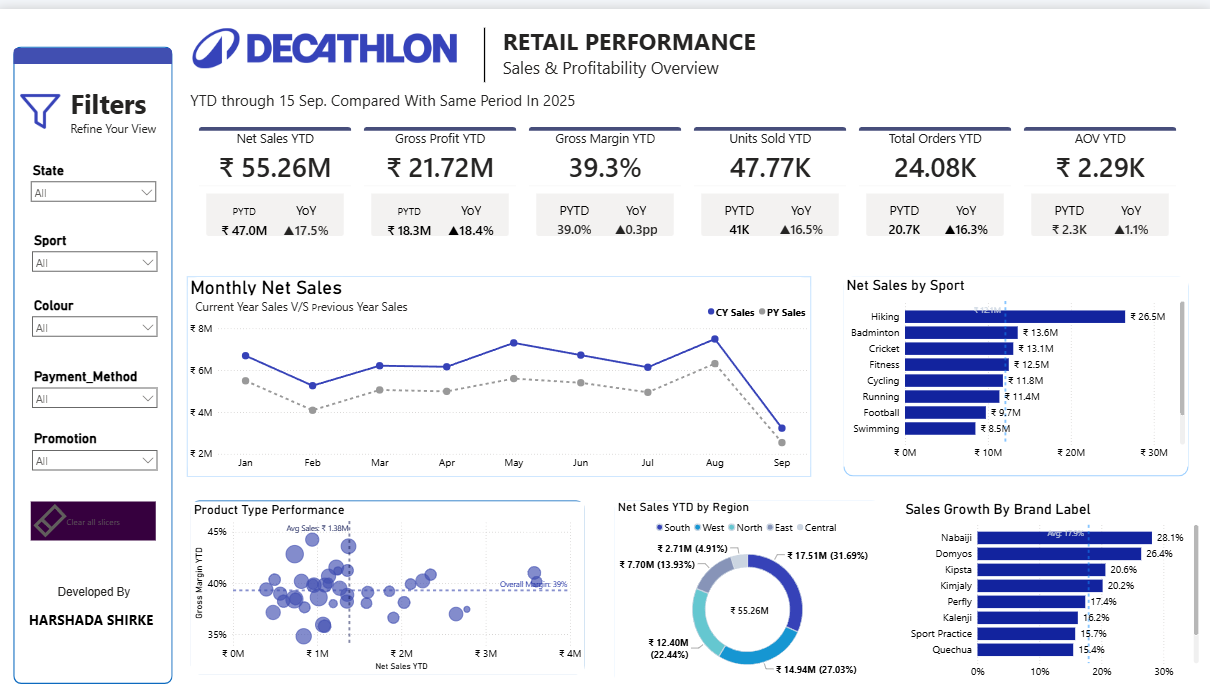

Layout of this report page (visuals, bound fields, positions):
{"tool":"powerbi","page":{"name":"Page 1","canvas":[1945,1095],"ordinal":0},"visuals":[{"type":"image","box":[311.5,9.2,423.8,105.4],"z":0},{"type":"textbox","box":[804,20.6,428.4,103.1],"z":1000},{"type":"shape","box":[755.9,29.8,48.1,87],"z":2000},{"type":"textbox","box":[304.7,123.7,636.8,48.1],"z":3000},{"type":"cardVisual","fields":{"Data":["sales.Net Sales YTD","sales.Net Gross Profit YTD","sales.Gross Margin YTD","sales.Net Units Sold YTD","sales.Net Orders YTD","sales.Net AOV YTD"]},"box":[306,172,1600,220],"z":4000},{"type":"shape","box":[304.7,428.4,998.7,320.7],"z":5000},{"type":"lineChart","title":"Monthly Net Sales","fields":{"Category":["Date Table.Month Name"],"Y":["sales.CY Sales","sales.PY Sales"]},"box":[304,428,1000,320],"z":6000},{"type":"textbox","box":[311.5,458.1,442.1,38.9],"z":7000},{"type":"shape","box":[1353.9,428.3,552.6,320.1],"z":8000},{"type":"clusteredBarChart","title":"Net Sales by Sport","fields":{"Category":["products.Sport"],"Y":["sales.Net Sales"]},"box":[1354,428,552,304],"z":9000},{"type":"shape","box":[310.6,786,630.7,278.4],"z":10000},{"type":"scatterChart","title":"Product Type Performance","fields":{"Category":["products.Product_Type"],"X":["sales.Net Sales YTD"],"Y":["sales.Gross Margin YTD"],"Size":["sales.Net Orders YTD"]},"box":[310,788,630,276],"z":11000},{"type":"shape","box":[987.8,785.2,426,294.7],"z":12000},{"type":"donutChart","fields":{"Y":["sales.Net Sales YTD"],"Category":["store.Region"]},"box":[988,786,426,296],"z":13000},{"type":"cardVisual","fields":{"Data":["sales.Net Sales YTD"]},"box":[1142,926,122,70],"z":14000},{"type":"clusteredBarChart","title":"Sales Growth By Brand Label","fields":{"Category":["products.Brand_Label"],"Y":["sales.Sales Growth %"]},"box":[1448,786,480,296],"z":15000},{"type":"shape","box":[25.8,60.7,255,1020],"z":16000},{"type":"shape","box":[26,62,254,26],"z":17000},{"type":"textbox","box":[112,116,154,106],"z":18000},{"type":"image","box":[26,108,86,114],"z":19000},{"type":"slicer","fields":{"Values":["store.State"]},"box":[44,240,220,78],"z":20000},{"type":"slicer","fields":{"Values":["products.Sport"]},"box":[46,352,220,78],"z":21000},{"type":"slicer","fields":{"Values":["products.Colour"]},"box":[46,456,220,78],"z":22000},{"type":"slicer","fields":{"Values":["sales.Payment_Method"]},"box":[46,570,220,78],"z":23000},{"type":"slicer","fields":{"Values":["sales.Promotion"]},"box":[46,670,220,78],"z":24000},{"type":"actionButton","box":[54,788,200,62],"z":25000},{"type":"textbox","box":[46,900,218,164],"z":26000}]}

Visuals, with their boxes in screenshot pixels (x1, y1, x2, y2), scaled from the page's 1945x1095 canvas onto the 1210x690 screenshot:
image: (x1=194, y1=6, x2=457, y2=72)
textbox: (x1=500, y1=13, x2=767, y2=78)
shape: (x1=470, y1=19, x2=500, y2=74)
textbox: (x1=190, y1=78, x2=586, y2=108)
cardVisual - sales.Net Sales YTD x sales.Net Gross Profit YTD: (x1=190, y1=108, x2=1186, y2=247)
shape: (x1=190, y1=270, x2=811, y2=472)
"Monthly Net Sales" lineChart: (x1=189, y1=270, x2=811, y2=471)
textbox: (x1=194, y1=289, x2=469, y2=313)
shape: (x1=842, y1=270, x2=1186, y2=472)
"Net Sales by Sport" clusteredBarChart: (x1=842, y1=270, x2=1186, y2=461)
shape: (x1=193, y1=495, x2=586, y2=671)
"Product Type Performance" scatterChart: (x1=193, y1=497, x2=585, y2=670)
shape: (x1=615, y1=495, x2=880, y2=680)
donutChart - sales.Net Sales YTD x store.Region: (x1=615, y1=495, x2=880, y2=682)
cardVisual - sales.Net Sales YTD: (x1=710, y1=584, x2=786, y2=628)
"Sales Growth By Brand Label" clusteredBarChart: (x1=901, y1=495, x2=1199, y2=682)
shape: (x1=16, y1=38, x2=175, y2=681)
shape: (x1=16, y1=39, x2=174, y2=55)
textbox: (x1=70, y1=73, x2=165, y2=140)
image: (x1=16, y1=68, x2=70, y2=140)
slicer - store.State: (x1=27, y1=151, x2=164, y2=200)
slicer - products.Sport: (x1=29, y1=222, x2=165, y2=271)
slicer - products.Colour: (x1=29, y1=287, x2=165, y2=336)
slicer - sales.Payment_Method: (x1=29, y1=359, x2=165, y2=408)
slicer - sales.Promotion: (x1=29, y1=422, x2=165, y2=471)
actionButton: (x1=34, y1=497, x2=158, y2=536)
textbox: (x1=29, y1=567, x2=164, y2=670)
